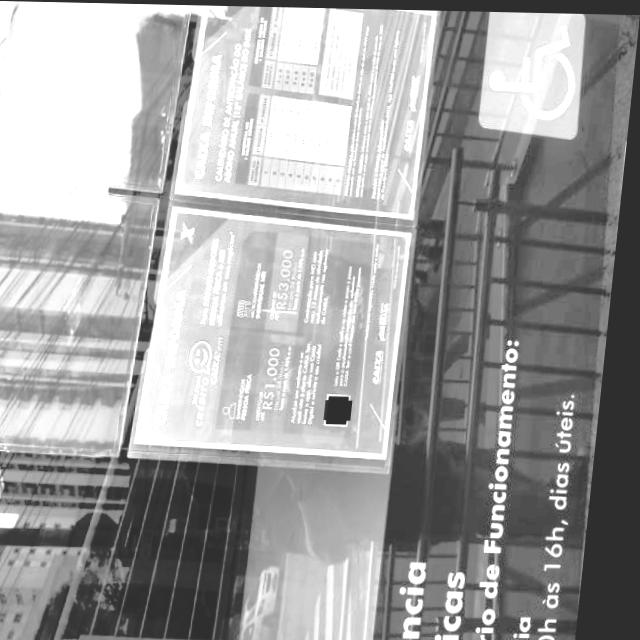qr_code: (333, 395, 359, 420)
